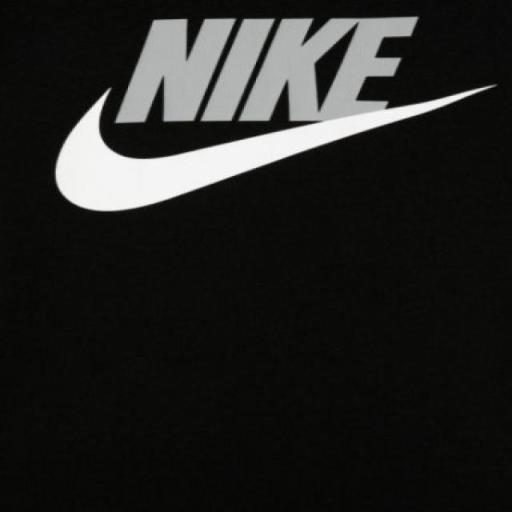Nike: (54, 78, 500, 216), (114, 14, 418, 129)
